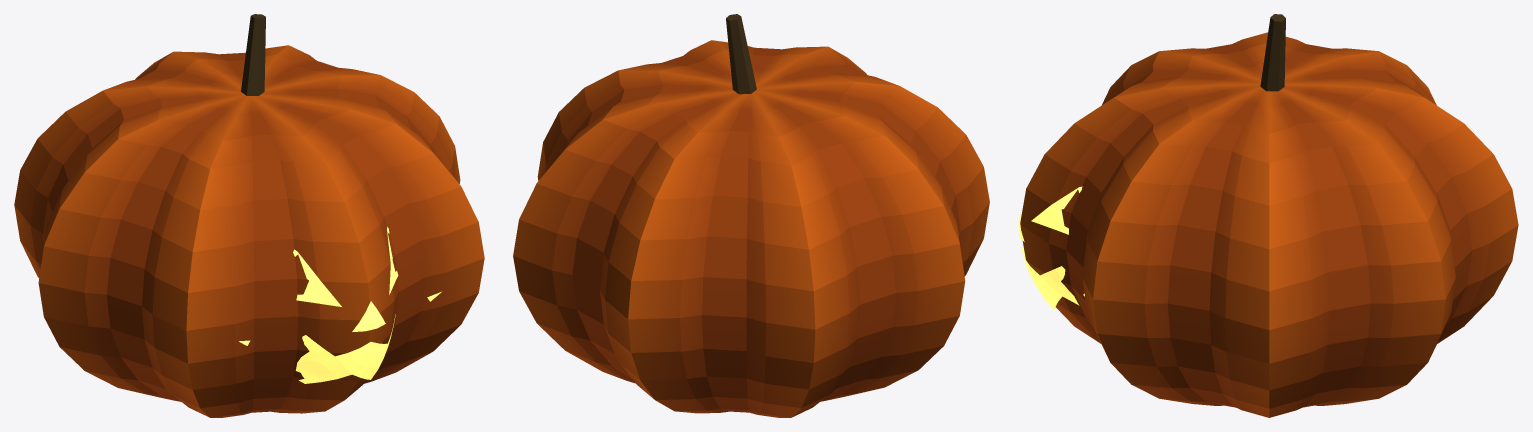
The model's file is pumpkins.glb.
3 renders of one model, left to right at view 1: azimuth 30°, elevation 25°; view 2: azimuth 150°, elevation 25°; view 3: azimuth 270°, elevation 25°, orthographic. The views are drawn at different scales.
Parts seen in each view (by area): view 1: PumpkinCarved, PumpkinPlain; view 2: PumpkinCarved, PumpkinPlain; view 3: PumpkinCarved, PumpkinPlain.
Boxes of the visible parts, x1=… form: PumpkinCarved: x1=14, y1=14, x2=484, y2=417; PumpkinPlain: x1=43, y1=52, x2=434, y2=412; PumpkinCarved: x1=513, y1=14, x2=989, y2=417; PumpkinPlain: x1=563, y1=47, x2=960, y2=412; PumpkinCarved: x1=1018, y1=14, x2=1518, y2=417; PumpkinPlain: x1=1066, y1=44, x2=1472, y2=407.
Size of the model in its own units: 2.22 by 1.85 by 2.23.
